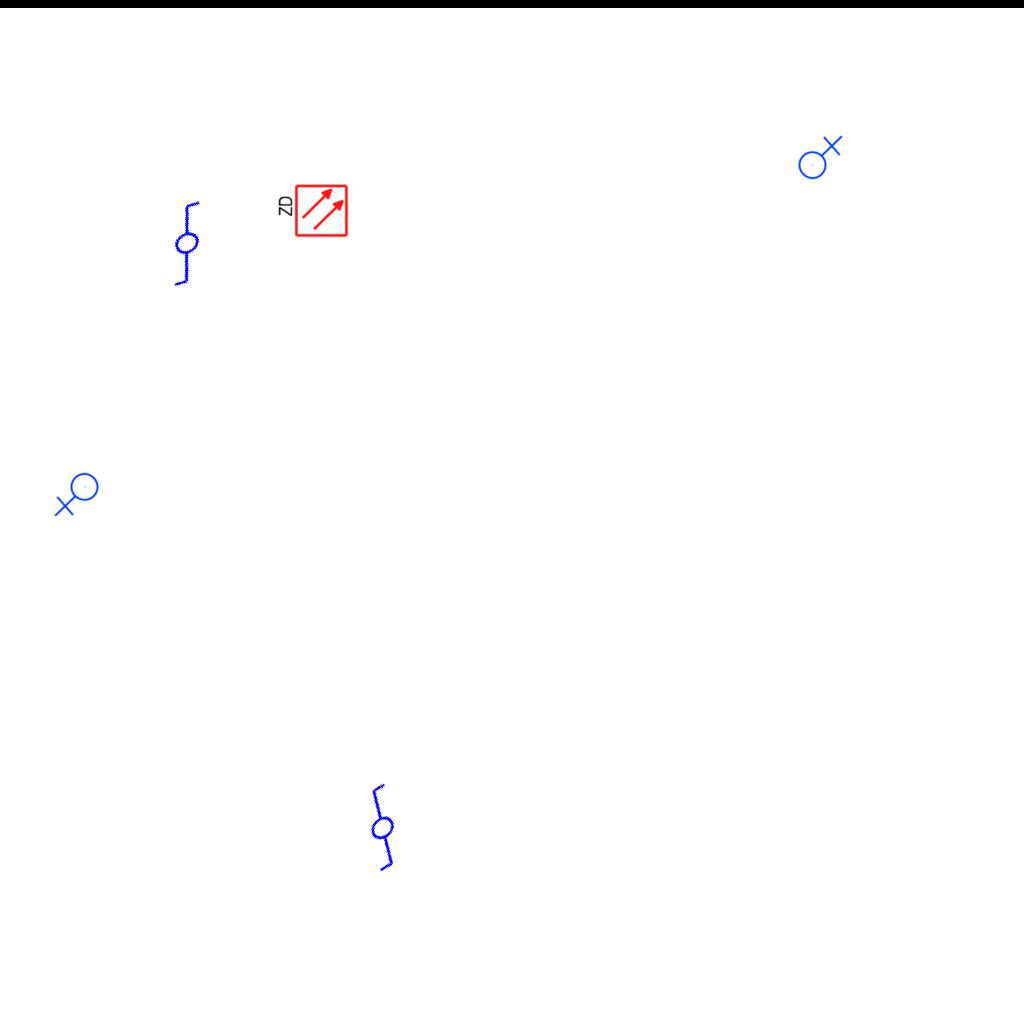Elektroanschluss_allgemein_230V_Geraeteanschlussdose_230V: (794, 133, 843, 180), (54, 472, 103, 519)
Wechselschalter: (326, 776, 432, 884), (138, 190, 244, 294)
ZD_Melder_in_Zwischendecke_mit_Revisionsoeffnung_mind_40_x_40_cm: (275, 183, 349, 240)
